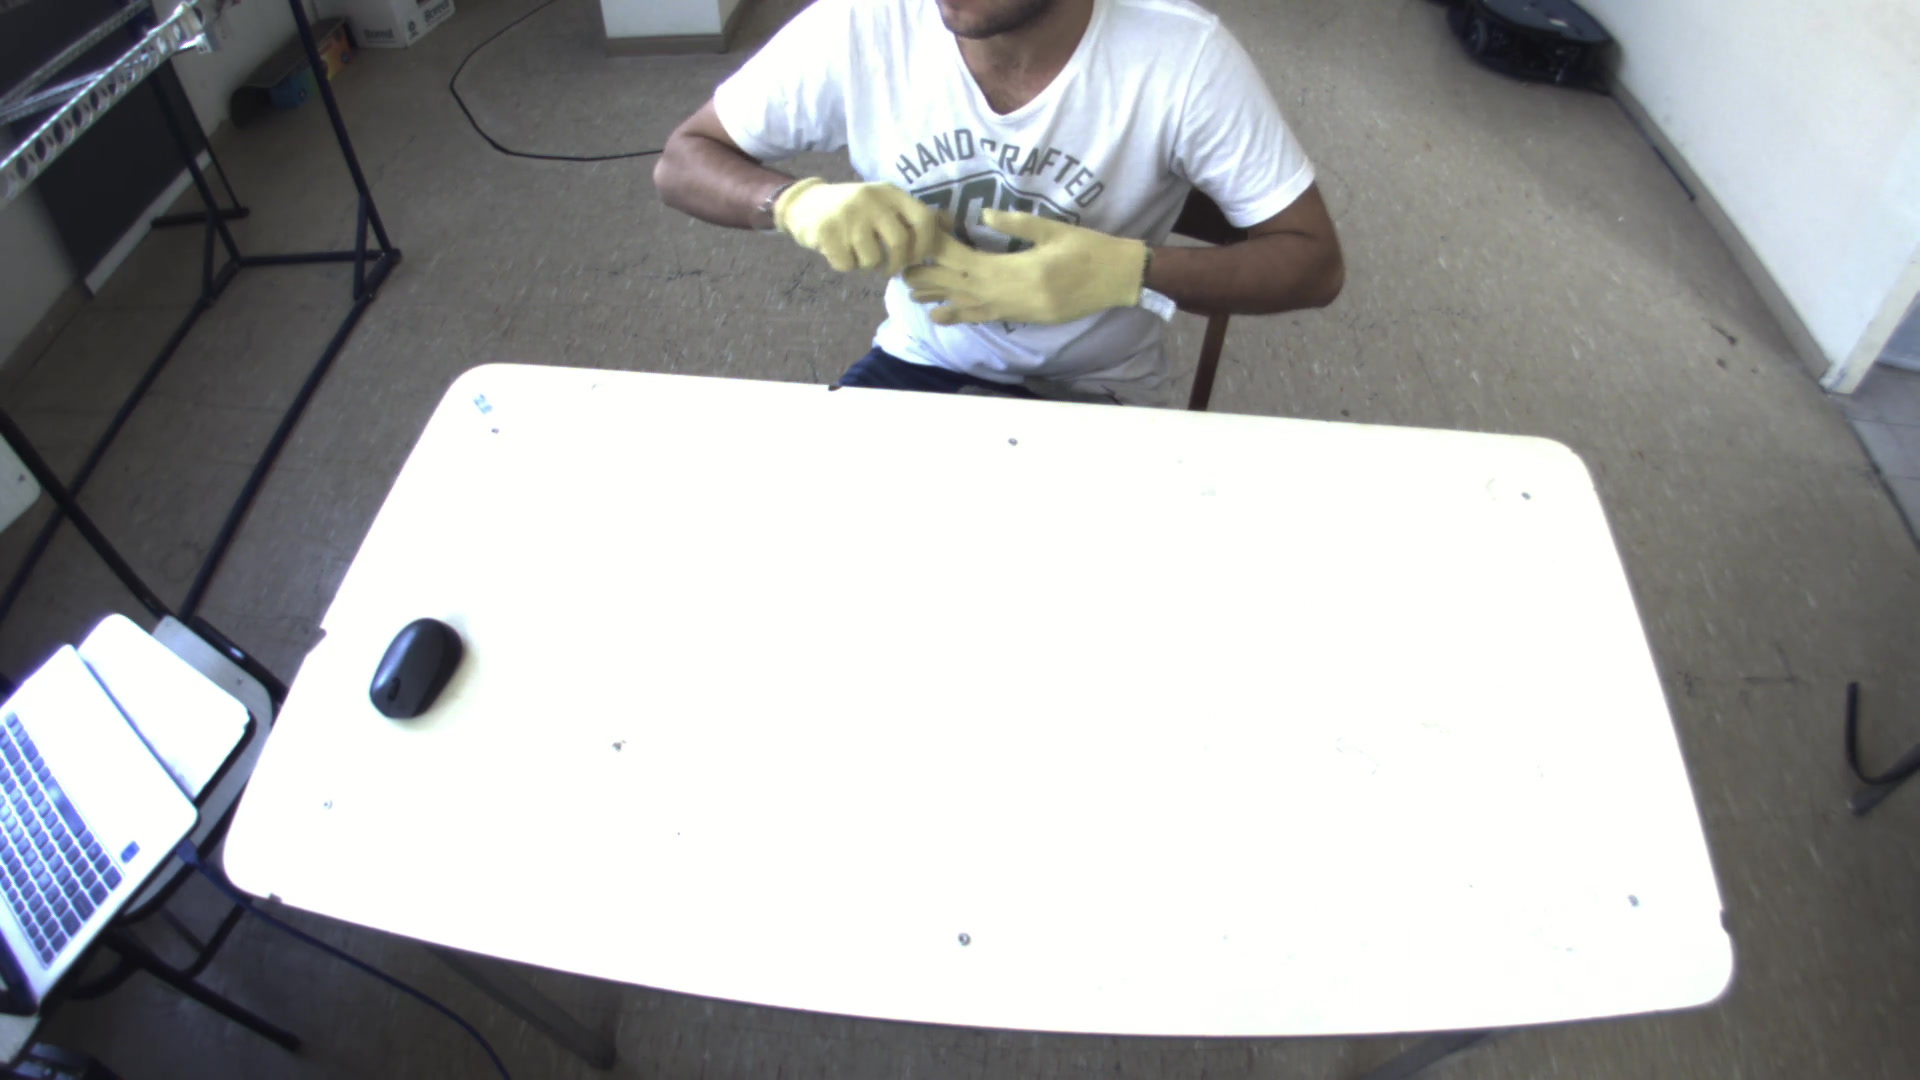hand: (890, 189, 1159, 326), (762, 157, 939, 273)
